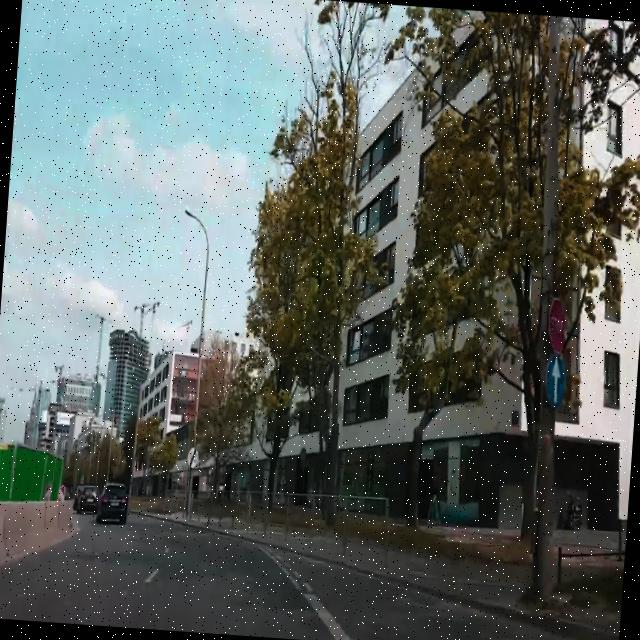Stop: (544, 296, 566, 354)
